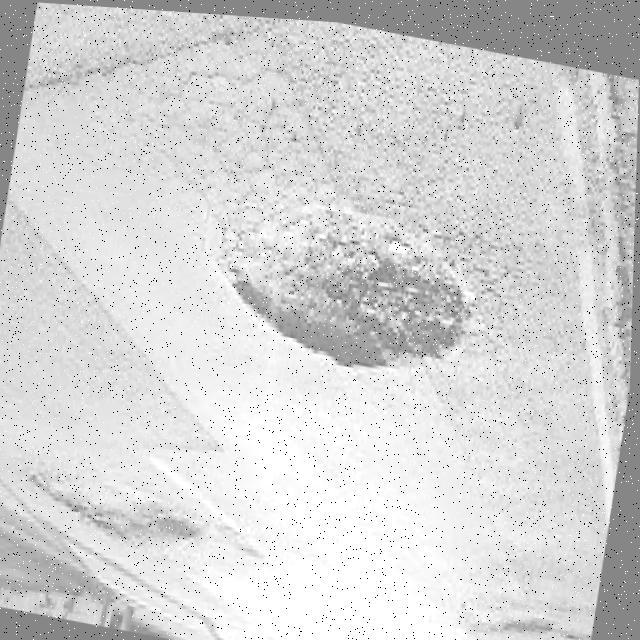pothole: (206, 173, 504, 392)
